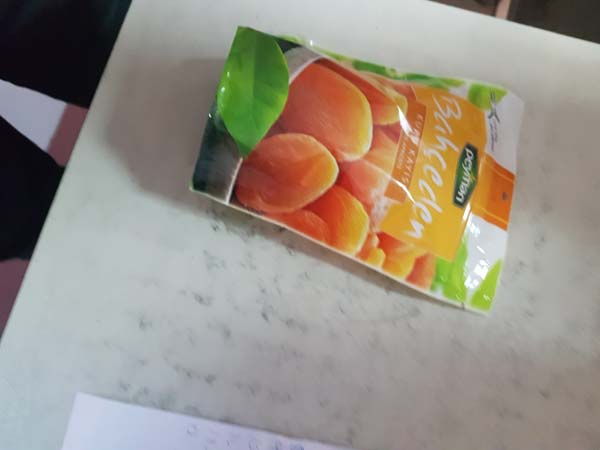bahcedenkurukayisi: (188, 23, 530, 332)
